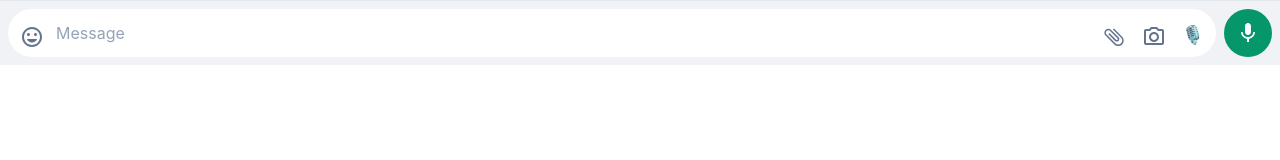
Chat bar — WhatsApp layout › has the smiley, paperclip and camera in the bar, and hides the camera once something is typed
Expected: the button named "Emojis" is shown, [12,17,52,57]
Expected: the button named "Attach a photo, video or document" is shown, [1085,9,1142,65]
Type "Amen" into the text box labelled "Message".
click(573, 33); type("Amen")  # box [52,9,1094,57]
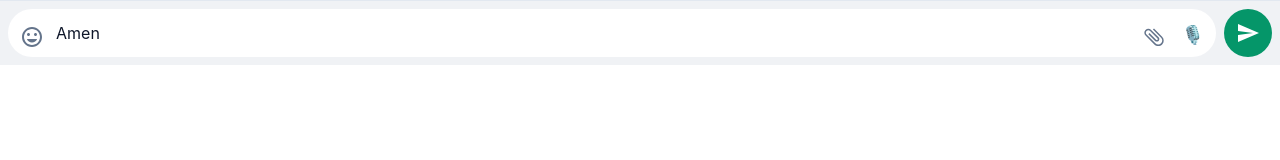
Expected: the button named "Send" is shown, [1224,9,1272,57]
